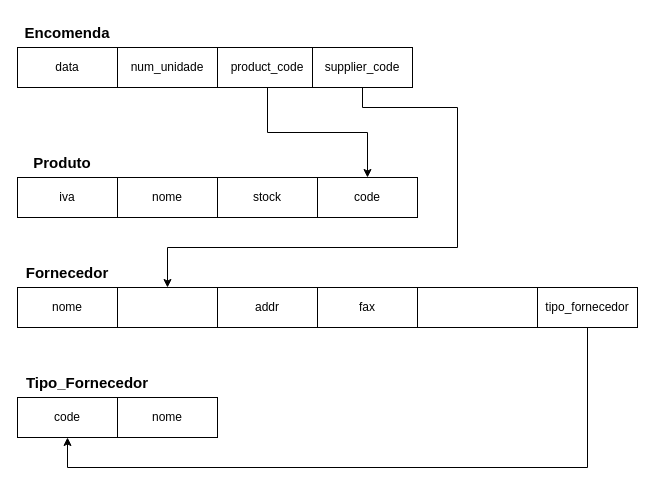
The diagram is 655 pixels wide and 493 high, and some of its shapes have lost their labels. The shapes that lost their labels are listed below. From the top down, each one's centre as x and y in pixels, then its label:
At pixel 167 307: "NIF".
At pixel 477 307: "cond_pagamento".
